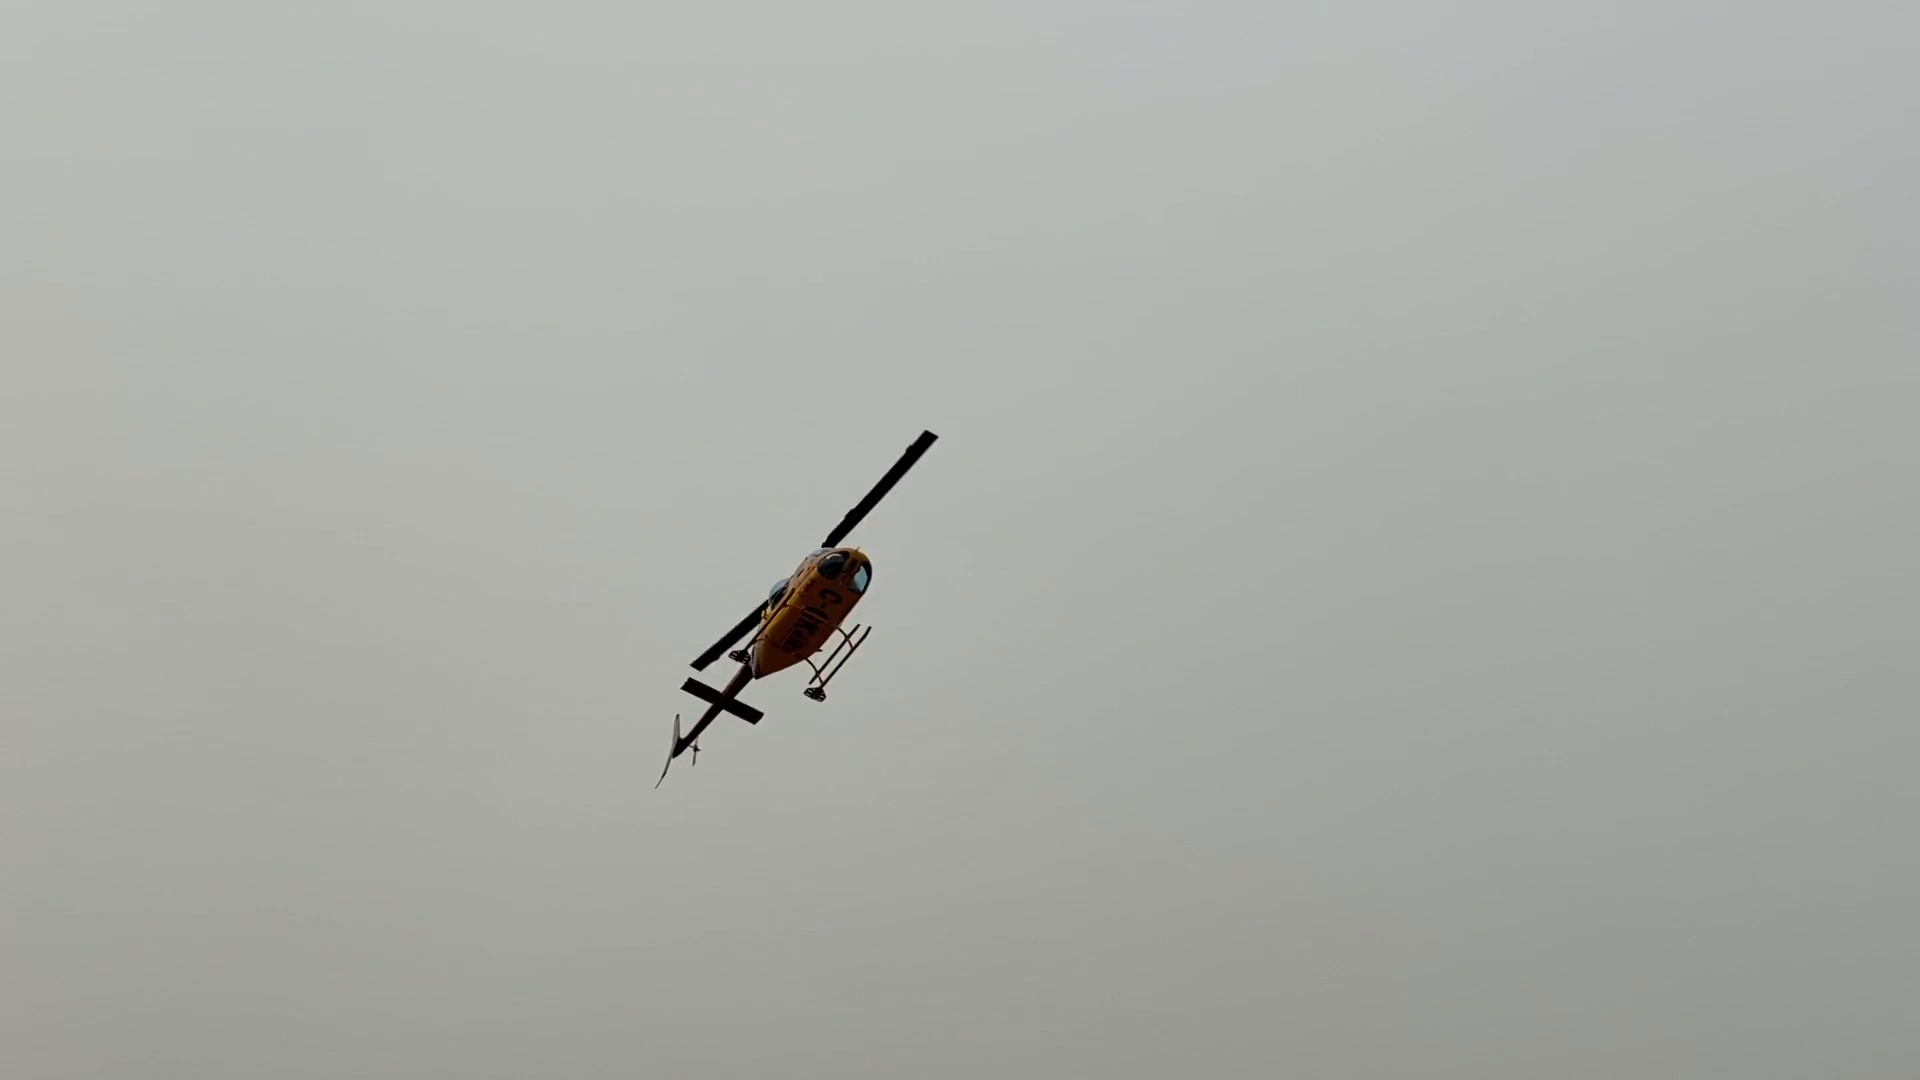heli: (663, 429, 938, 764)
